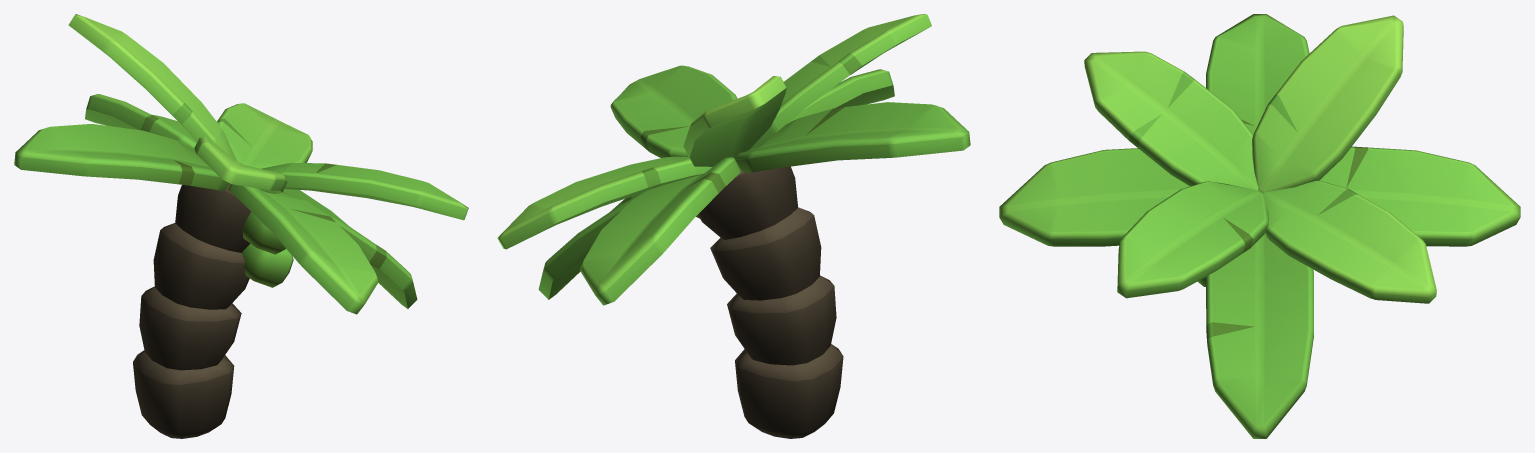
Rendered from deco_palm_2.fbx.
3 views of the same model, side by side, from view 1: azimuth 30°, elevation 25°; view 2: azimuth 150°, elevation 25°; view 3: azimuth 270°, elevation 25° (orthographic). The views are drawn at different scales.
Visible parts, largest first — view 1: deco_palm1_2_LOD0; view 2: deco_palm1_2_LOD0; view 3: deco_palm1_2_LOD0.
Part boxes in pixels (x1,y1,x2,y2): deco_palm1_2_LOD0: (14,14,468,438); deco_palm1_2_LOD0: (497,14,970,438); deco_palm1_2_LOD0: (999,14,1520,438).
Size of what is drawn, in the model's own units: 304 by 275 by 354.
